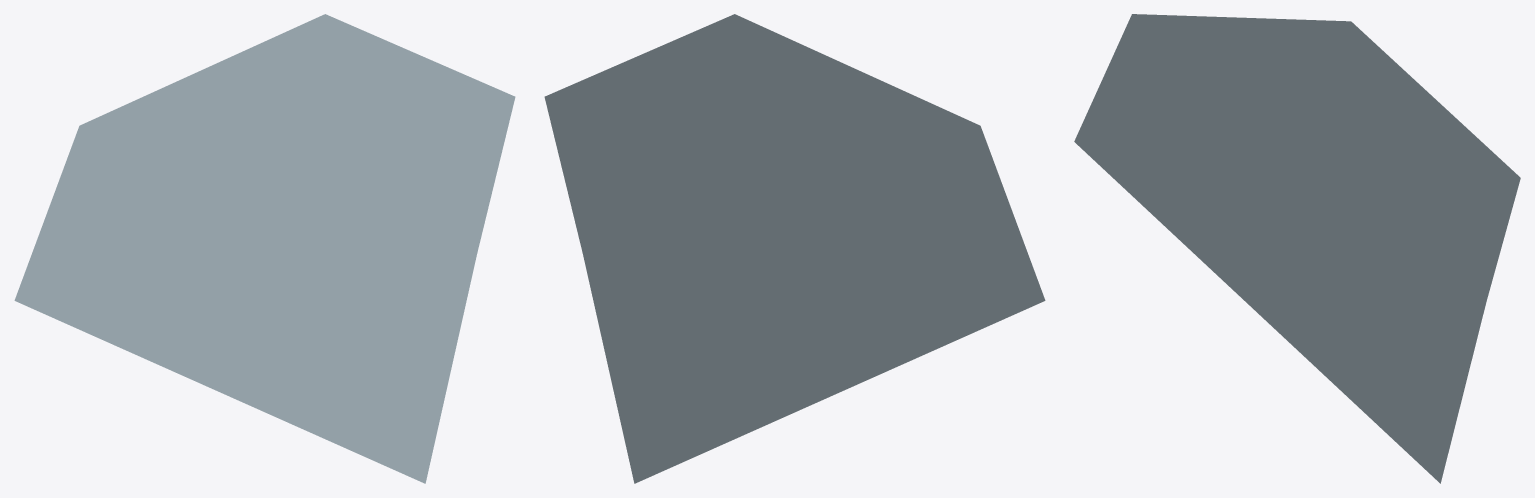
3 views of the same model, side by side, from view 1: azimuth 30°, elevation 25°; view 2: azimuth 150°, elevation 25°; view 3: azimuth 330°, elevation 25° (orthographic). The views are drawn at different scales.
Visible parts, largest first — view 1: pCube40; view 2: pCube40; view 3: pCube40.
Part boxes in pixels (x1,y1,x2,y2): pCube40: (14, 14, 515, 483); pCube40: (544, 14, 1045, 483); pCube40: (1074, 14, 1520, 483).
Bounding box in the file's own units: 40.96 × 38.62 × 3.81e-05.
